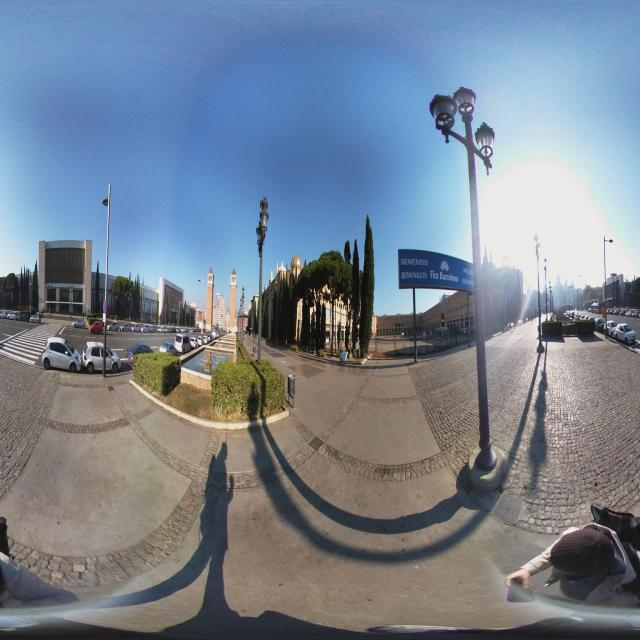car: (40, 338, 82, 372), (82, 342, 121, 373), (612, 322, 638, 347), (191, 332, 201, 350), (594, 317, 605, 332), (629, 308, 639, 317), (212, 330, 218, 342)
